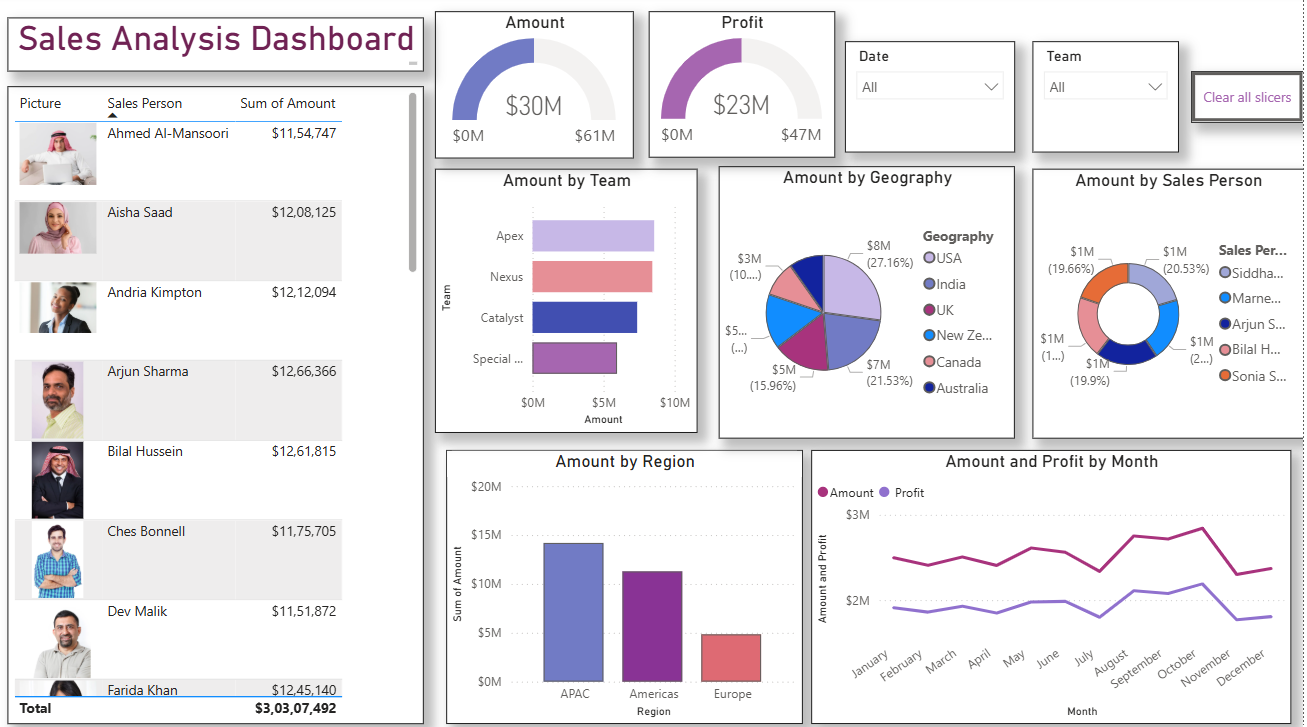

The page's visual inventory and layout, read from the dashboard file:
{"tool":"powerbi","page":{"name":"Page 1","canvas":[1280,720],"ordinal":0},"visuals":[{"type":"columnChart","title":"Amount by Region","fields":{"Category":["Locations.Region"],"Y":["Sum(sales.Amount)"]},"box":[441.4,445.1,348.5,267.8],"z":0},{"type":"tableEx","fields":{"Values":["EmployeeData.Picture","sales.Sales Person","Sum(sales.Amount)"]},"box":[12.2,89.3,407.2,623.6],"z":1000},{"type":"barChart","title":"Amount by Team","fields":{"Category":["EmployeeData.Team"],"Y":["Sum(sales.Amount)"]},"box":[430.4,170,256.8,258],"z":2000},{"type":"pieChart","title":"Amount by Geography","fields":{"Category":["Locations.Geo"],"Y":["Sum(sales.Amount)"]},"box":[708,167.5,289.8,266.6],"z":3000},{"type":"donutChart","title":"Amount by Sales Person","fields":{"Category":["sales.Sales Person"],"Y":["Sum(sales.Amount)"]},"box":[1015,170,265.4,264.1],"z":4000},{"type":"lineChart","fields":{"Y":["Sum(sales.Amount)","Sum(sales.Profit)"],"Category":["sales.Date.Variation.Date Hierarchy.Year","sales.Date.Variation.Date Hierarchy.Quarter","sales.Date.Variation.Date Hierarchy.Month","sales.Date.Variation.Date Hierarchy.Day"]},"box":[798.5,445.1,469.6,267.8],"z":5000},{"type":"gauge","title":"Amount","fields":{"Y":["Sum(sales.Amount)"]},"box":[430.4,15.9,194.4,144.3],"z":6000},{"type":"gauge","title":"Profit","fields":{"Y":["Sum(sales.Profit)"]},"box":[639.5,15.9,182.2,143.1],"z":7000},{"type":"slicer","fields":{"Values":["sales.Date"]},"box":[831.5,45.2,166.3,108.8],"z":8000},{"type":"slicer","fields":{"Values":["EmployeeData.Team"]},"box":[1015,45.2,143.1,108.8],"z":9000},{"type":"actionButton","box":[1170.3,74.6,110.1,50.1],"z":10000},{"type":"textbox","title":"Sales Analysis Dashboard","box":[12.2,22,407.2,52.6],"z":11000}]}

Visuals, with their boxes in screenshot pixels (x1, y1, x2, y2), scaled from the page's 1280x720 canvas onto the 1307x727 screenshot:
"Amount by Region" columnChart: left=451, top=449, right=807, bottom=720
tableEx - EmployeeData.Picture x sales.Sales Person: left=12, top=90, right=428, bottom=720
"Amount by Team" barChart: left=439, top=172, right=702, bottom=432
"Amount by Geography" pieChart: left=723, top=169, right=1019, bottom=438
"Amount by Sales Person" donutChart: left=1036, top=172, right=1306, bottom=438
lineChart - Sum(sales.Amount) x Sum(sales.Profit): left=815, top=449, right=1295, bottom=720
"Amount" gauge: left=439, top=16, right=638, bottom=162
"Profit" gauge: left=653, top=16, right=839, bottom=161
slicer - sales.Date: left=849, top=46, right=1019, bottom=155
slicer - EmployeeData.Team: left=1036, top=46, right=1183, bottom=155
actionButton: left=1195, top=75, right=1306, bottom=126
"Sales Analysis Dashboard" textbox: left=12, top=22, right=428, bottom=75
